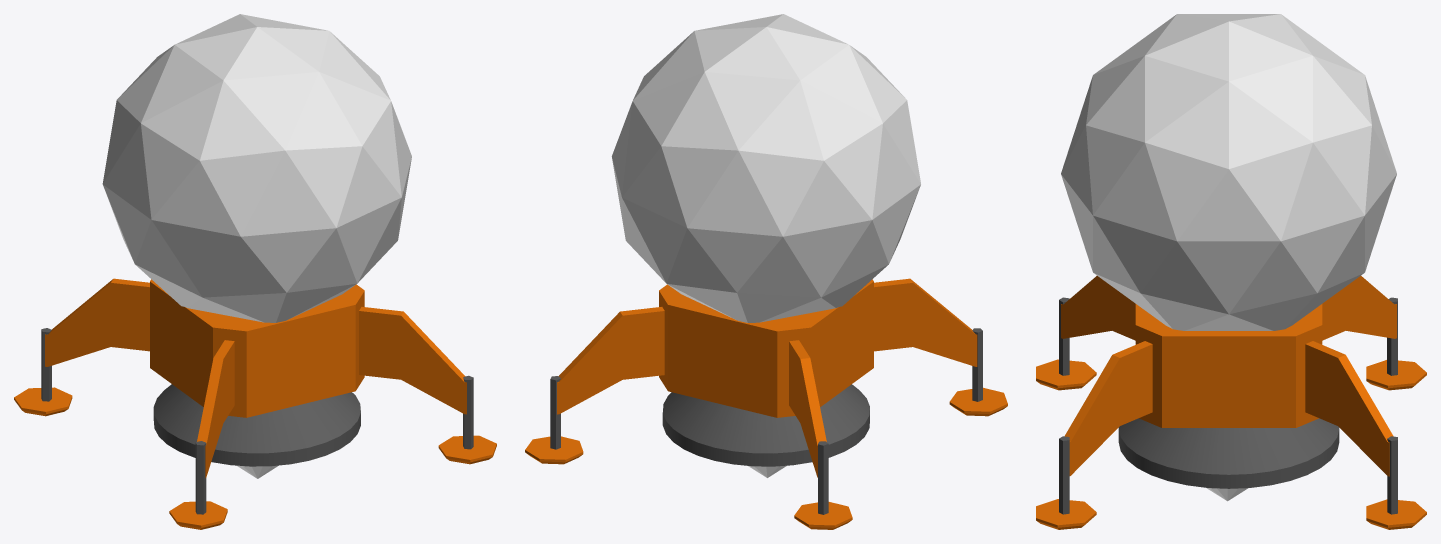
Rendered from lander.gltf.
3 views of the same model, side by side, from view 1: azimuth 30°, elevation 25°; view 2: azimuth 150°, elevation 25°; view 3: azimuth 270°, elevation 25° (orthographic). The views are drawn at different scales.
Visible parts, largest first — view 1: Lander_Capsule, Lander_Base, Lander_Thruster, Lander_Foot.003, Lander_Foot.002, Lander_Foot.001, Lander_Leg.002, Lander_Leg.001, Lander_Leg.003; view 2: Lander_Capsule, Lander_Base, Lander_Thruster, Lander_Foot.001, Lander_Foot, Lander_Foot.003, Lander_Leg.003, Lander_Leg, Lander_Leg.002; view 3: Lander_Capsule, Lander_Base, Lander_Thruster, Lander_Foot.002, Lander_Foot, Lander_Foot.003, Lander_Foot.001, Lander_Leg.001, Lander_Leg, Lander_Leg.002, Lander_Leg.003.
Part boxes in pixels (<box>): Lander_Capsule: <box>102,14,411,322</box>; Lander_Base: <box>45,278,466,478</box>; Lander_Thruster: <box>153,384,360,466</box>; Lander_Foot.003: <box>169,501,227,529</box>; Lander_Foot.002: <box>438,435,496,464</box>; Lander_Foot.001: <box>14,387,72,416</box>; Lander_Leg.002: <box>195,441,206,514</box>; Lander_Leg.001: <box>463,375,473,449</box>; Lander_Leg.003: <box>41,328,51,401</box>; Lander_Capsule: <box>611,14,920,322</box>; Lander_Base: <box>557,278,977,477</box>; Lander_Thruster: <box>662,384,869,466</box>; Lander_Foot.001: <box>794,502,852,529</box>; Lander_Foot: <box>525,436,583,464</box>; Lander_Foot.003: <box>949,387,1007,416</box>; Lander_Leg.003: <box>818,441,828,514</box>; Lander_Leg: <box>550,376,560,449</box>; Lander_Leg.002: <box>972,328,982,401</box>; Lander_Capsule: <box>1061,14,1396,330</box>; Lander_Base: <box>1061,276,1396,476</box>; Lander_Thruster: <box>1118,418,1339,488</box>; Lander_Foot.002: <box>1036,499,1096,529</box>; Lander_Foot: <box>1366,499,1426,529</box>; Lander_Foot.003: <box>1036,359,1096,390</box>; Lander_Foot.001: <box>1366,360,1426,390</box>; Lander_Leg.001: <box>1059,436,1069,514</box>; Lander_Leg: <box>1387,436,1397,514</box>; Lander_Leg.002: <box>1059,297,1069,375</box>; Lander_Leg.003: <box>1387,297,1397,375</box>.
Bounding box in the file's own units: 2.11 × 2.85 × 2.1.
